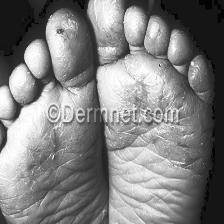Non-Cancerous Skin Condition: (22, 129, 62, 181), (93, 0, 122, 44), (56, 27, 66, 39)
